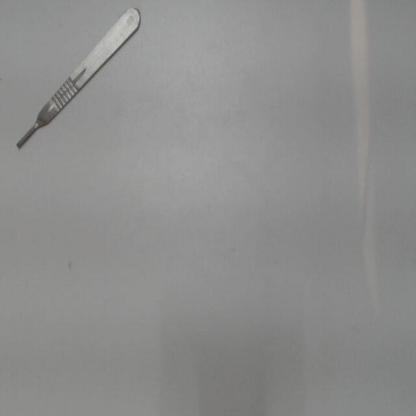No.3 BP Handle: (8, 5, 153, 159)
